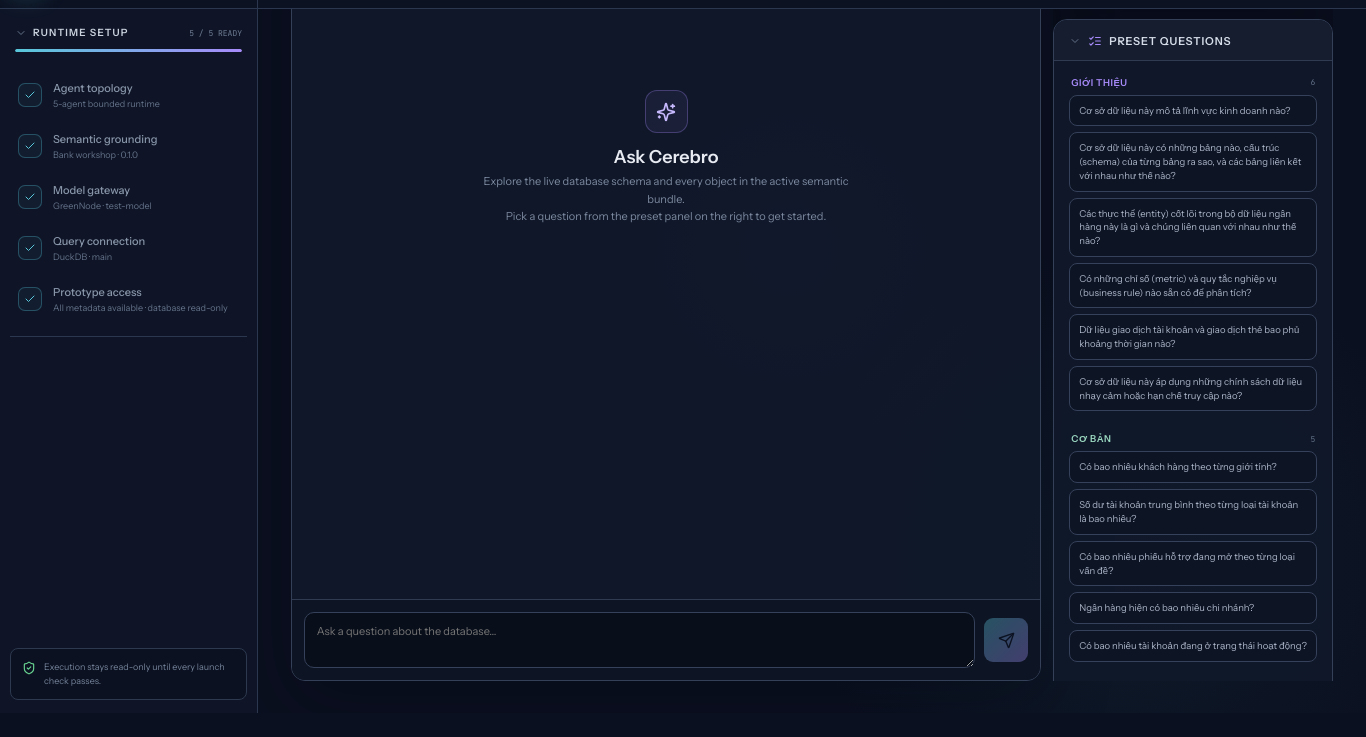
workspace navigation › cancels backend work after a network failure
(page scrolled)
Step 1. Type "Có bao nhiêu khách hàng theo từng giới tính?" into the text box named "Ask about the database" → (640, 640), box [304,612,975,668]
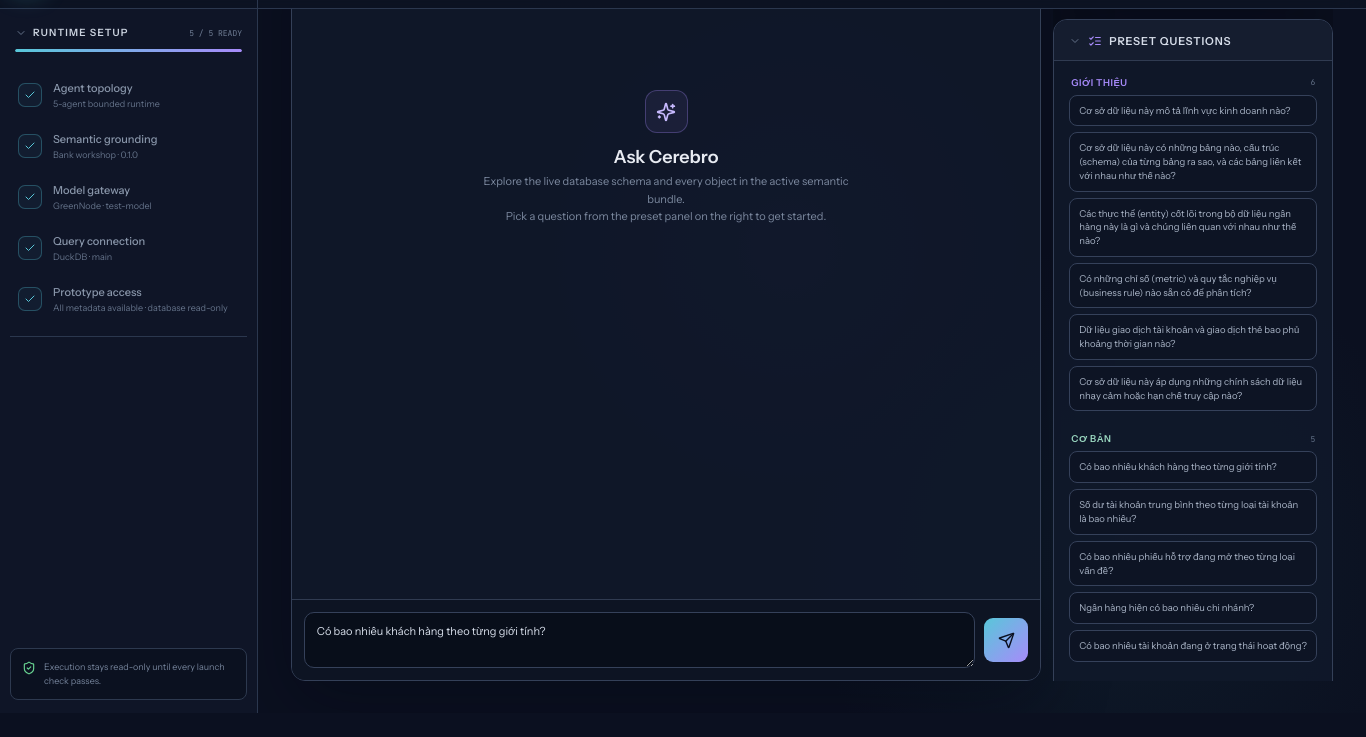
Step 2. Click the button named "Send question" → (1006, 640), box [984,618,1028,662]
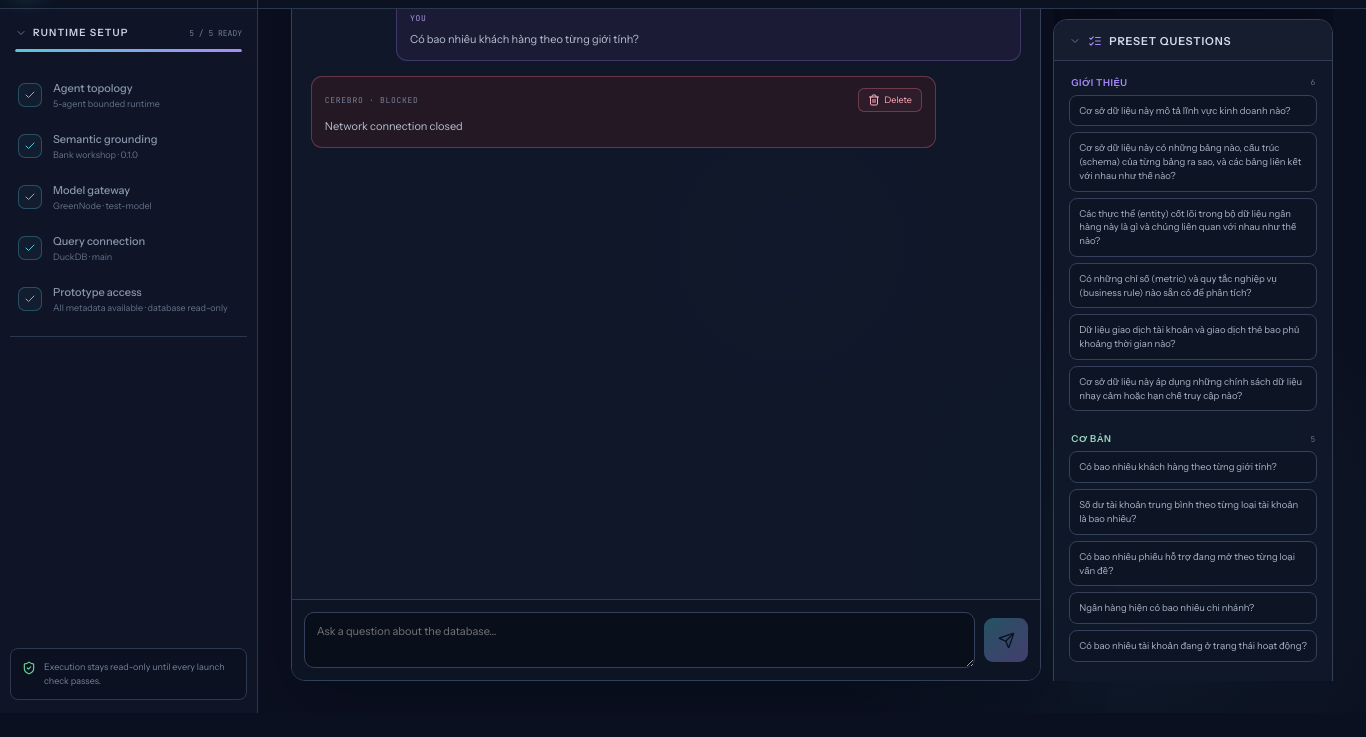
Expected: the text "Network connection closed" is shown, [325,119,463,133]
